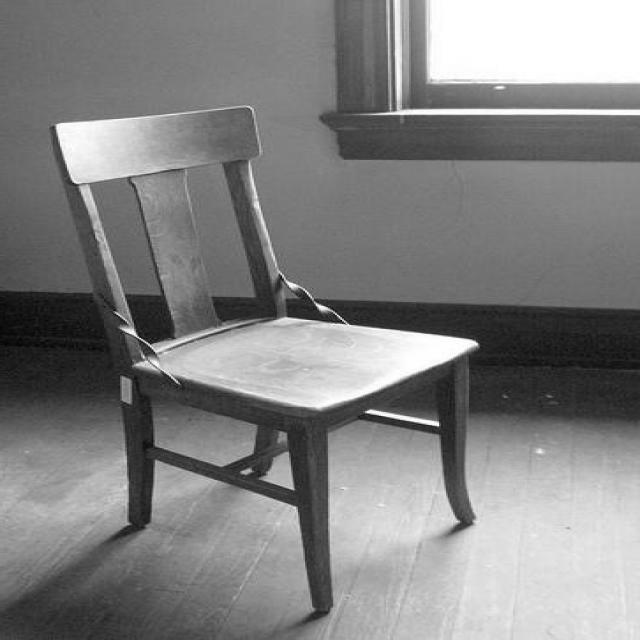chair: (38, 104, 476, 616)
